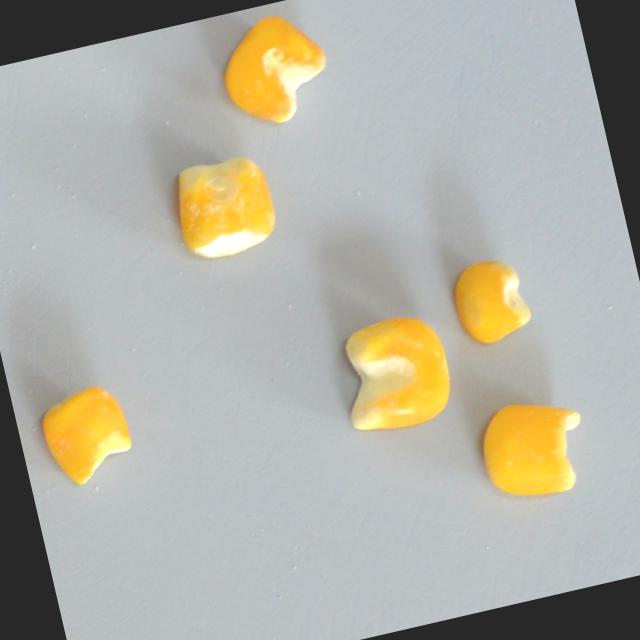no_canjicado: (328, 306, 459, 439), (210, 4, 338, 133), (473, 388, 597, 508), (34, 379, 139, 490), (446, 251, 535, 348)
pelicula: (167, 149, 285, 265)
